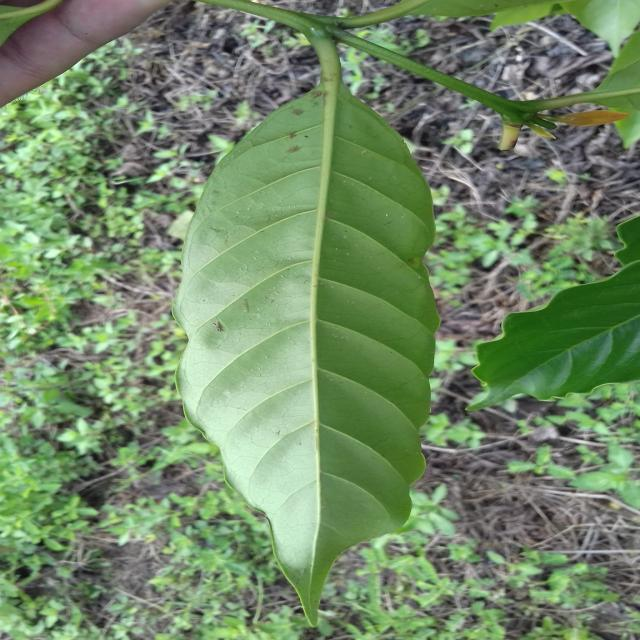Sanas: (175, 67, 439, 631)
